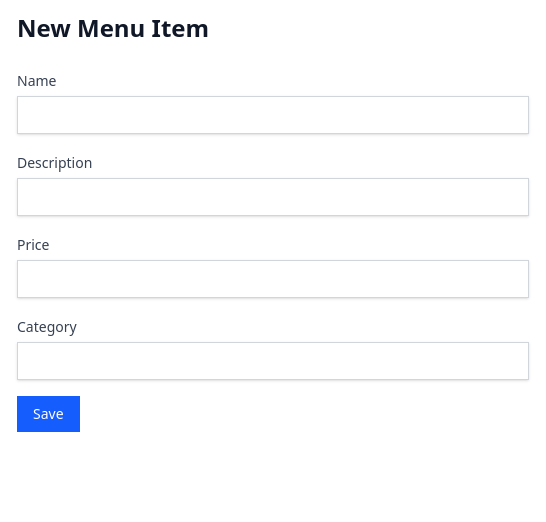
Test case: MenuItemForm › validates required fields
Click the button "Save" at (48, 414), box left=17, top=396, right=80, bottom=432
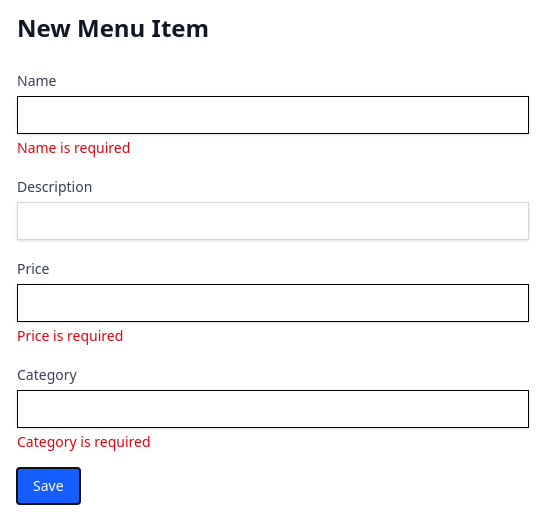
Expected: the text "Name is required" is shown, left=17, top=138, right=130, bottom=157
